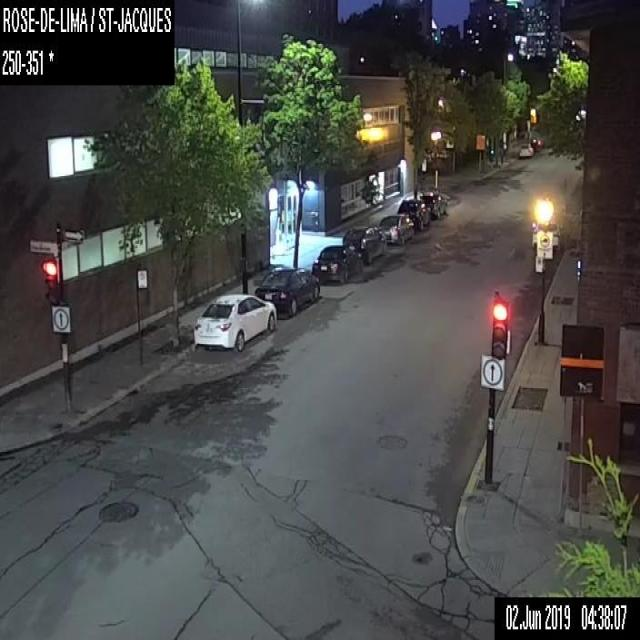construction: (475, 134, 485, 172)
pedestrian: (413, 184, 417, 199)
vehicle: (192, 289, 274, 351), (254, 266, 319, 318), (312, 244, 364, 282), (342, 223, 387, 262), (377, 213, 415, 244), (396, 197, 432, 229), (530, 216, 561, 247), (421, 192, 446, 216), (518, 142, 533, 156), (544, 231, 546, 232)
